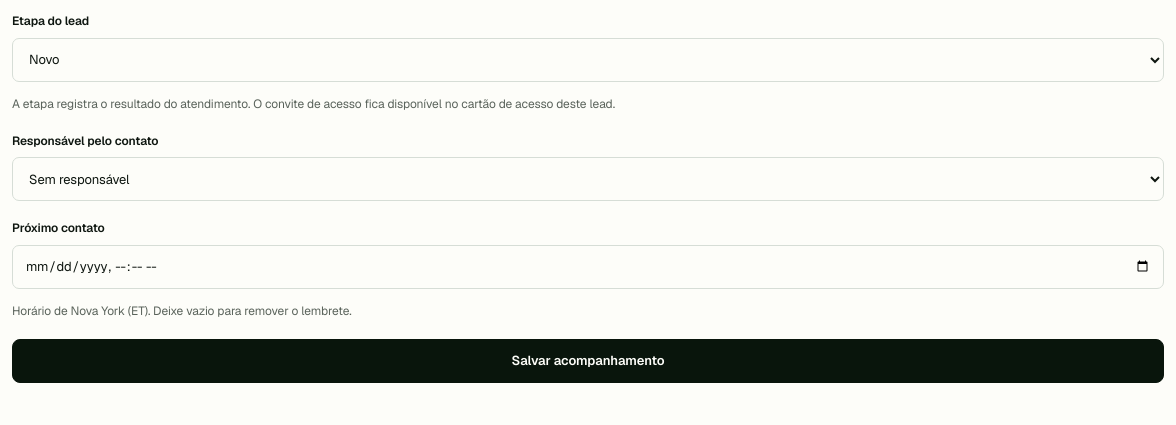
Test case: Marketing lead follow-up › rejects a nonexistent local time during daylight saving transition
The width and height of the screenshot is (1176, 425).
In the field labelled "Próximo contato": (588, 267) [12,245,1164,289], type "2027-03-14T02:30"
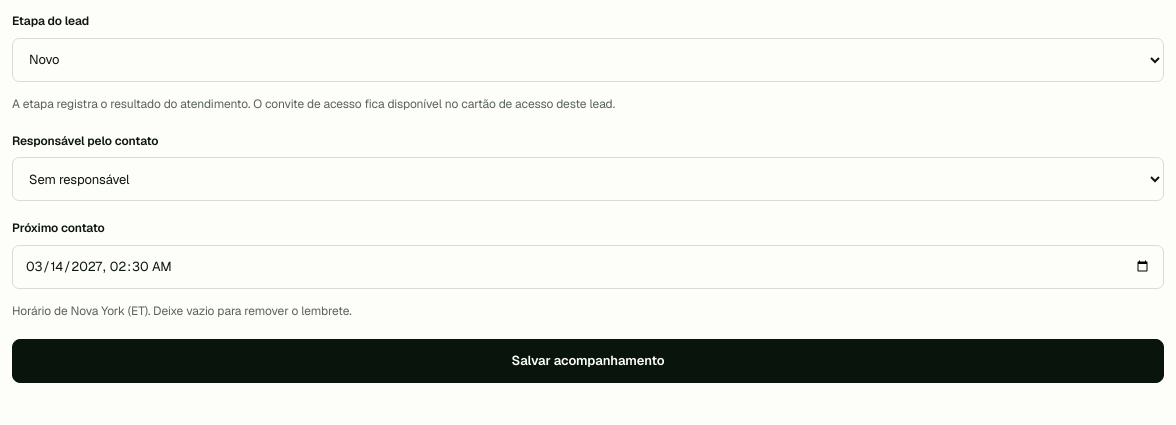
Click the button "Salvar acompanhamento": (588, 361) [12,339,1164,383]
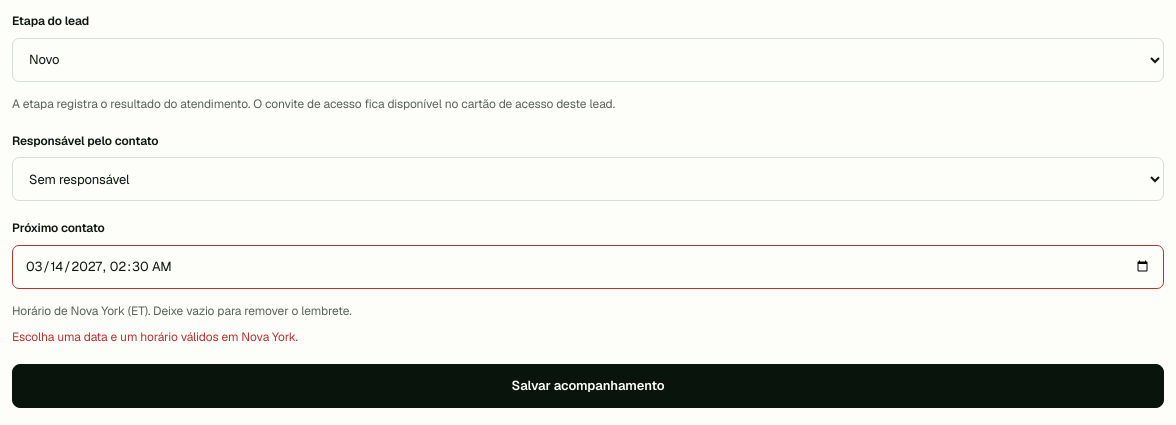
Expected: the text "Escolha uma data e um horário válidos em Nova York." is shown, [12,329,298,345]
